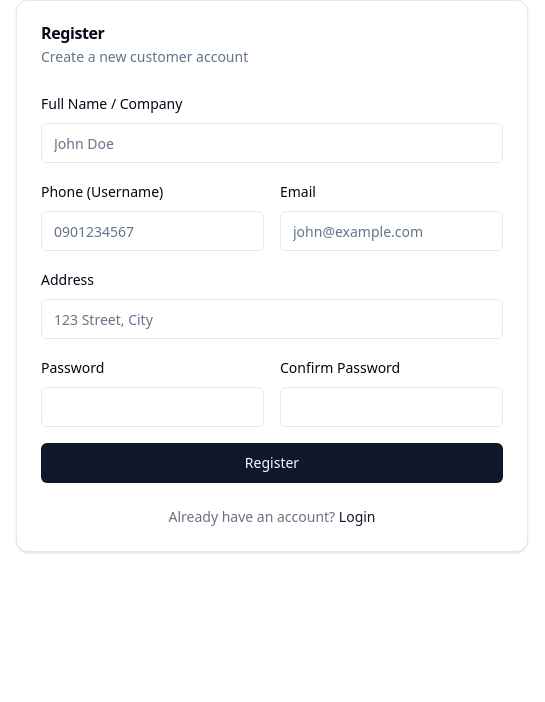
RegisterForm › shows validation error for password mismatch
Type "password123" into the password field labelled "Password" at (152, 407), box [41,387,264,427]
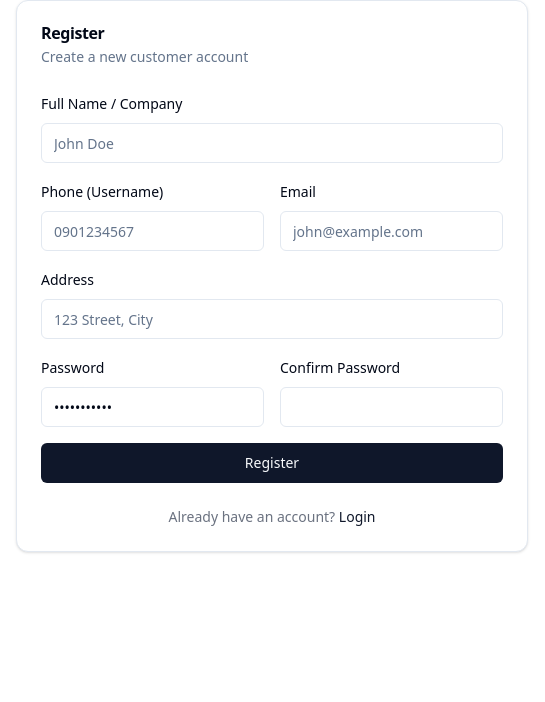
Type "nomatch" into the password field labelled "Confirm Password" at (392, 407), box [280,387,503,427]
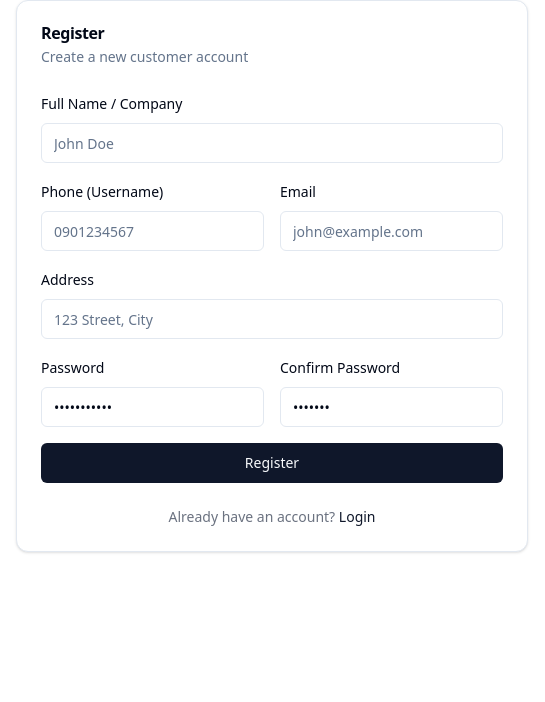
Click the button "Register" at (272, 463), box [41,443,503,483]
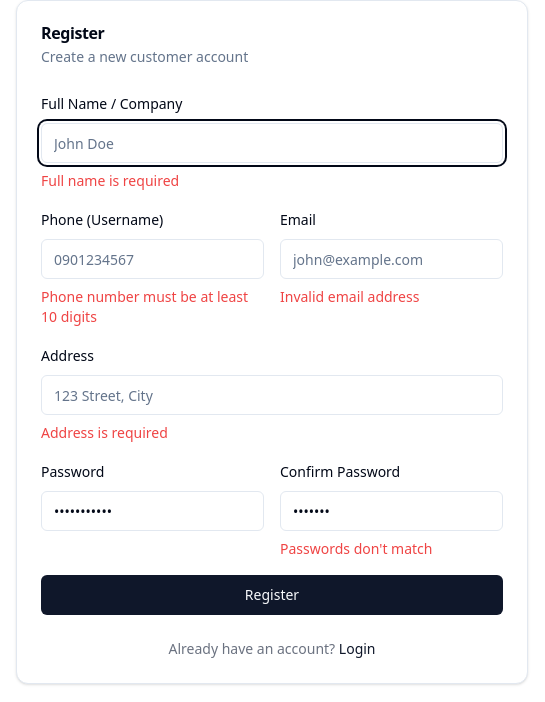
Result: the text "Passwords don't match" is shown at [280,539,432,558]
